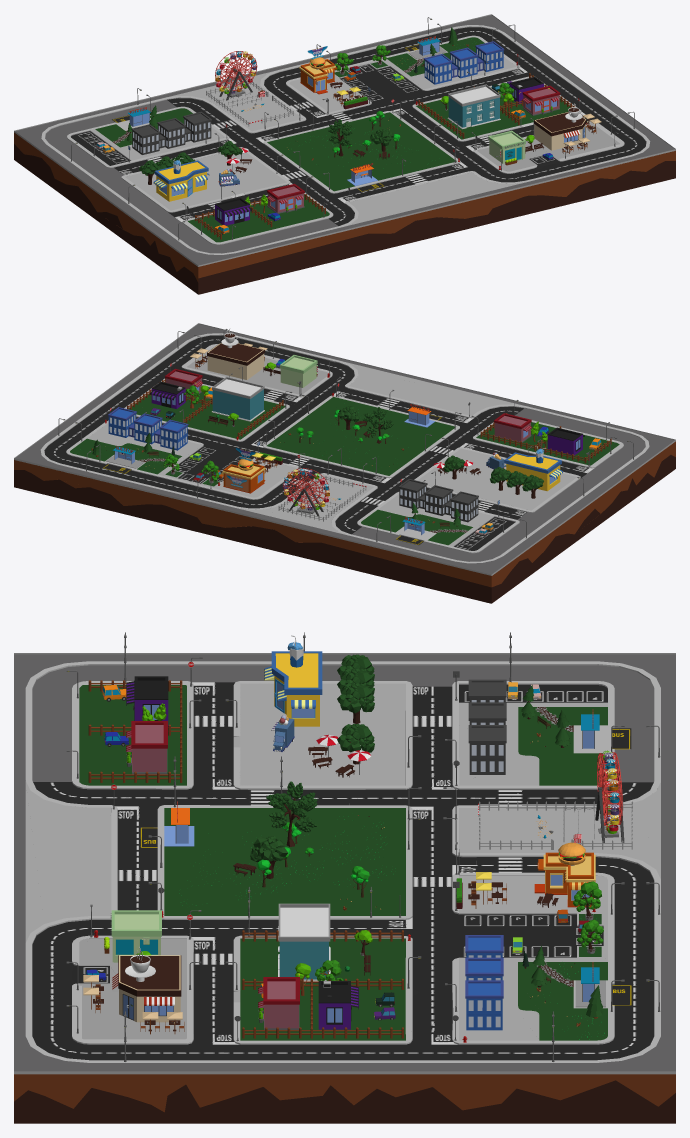
File: CITY_final.glb
3 views of the same model, one above another, from view 1: azimuth 30°, elevation 25°; view 2: azimuth 150°, elevation 25°; view 3: azimuth 270°, elevation 25° (orthographic). The views are drawn at different scales.
Visible parts, largest first — view 1: Casa_03; view 2: Casa_03; view 3: Casa_03.
Boxes of the visible parts, box(x1,y1,x2,y2) form: Casa_03: box(14, 14, 675, 294); Casa_03: box(14, 323, 675, 603); Casa_03: box(14, 632, 675, 1123).
Bounding box in the file's own units: 136 × 28.9 × 90.76.
Materials: 29 (17 with a texture image).
